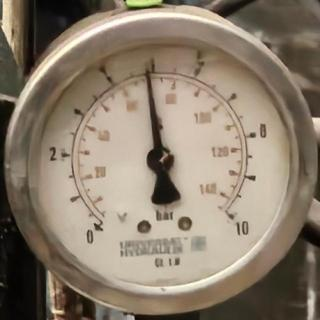gauge: (19, 26, 302, 306), (206, 195, 253, 241), (76, 205, 116, 249), (145, 146, 175, 174), (140, 61, 152, 79)
